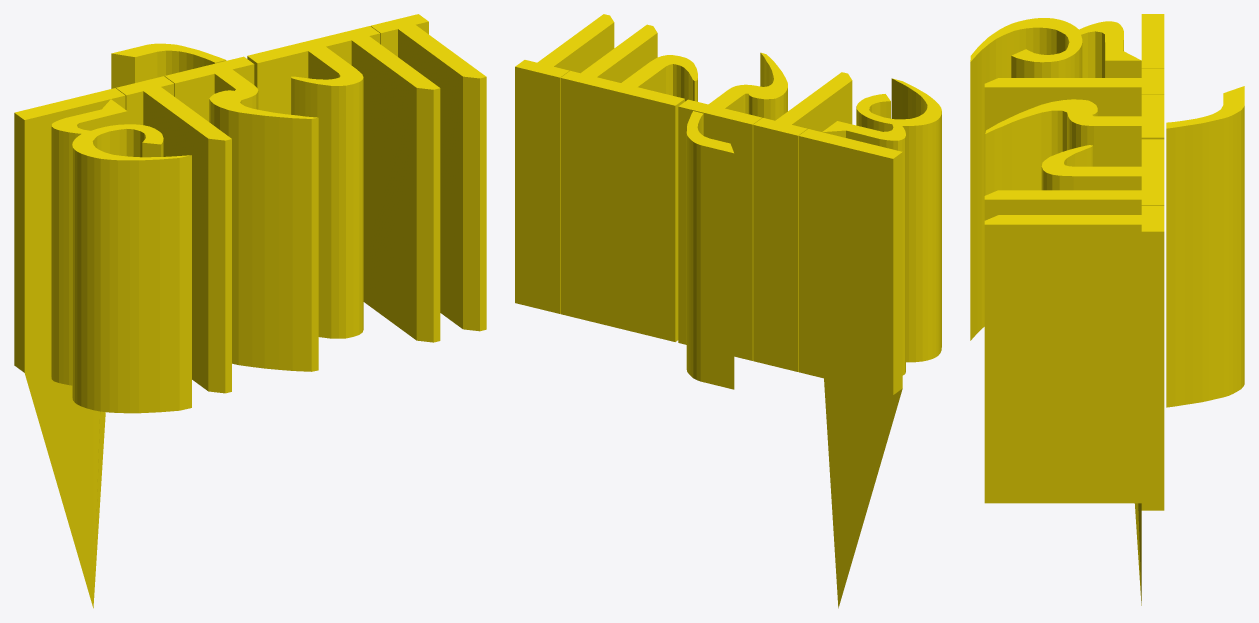
File: loose.fbx
3 views of the same model, side by side, from view 1: azimuth 30°, elevation 25°; view 2: azimuth 150°, elevation 25°; view 3: azimuth 270°, elevation 25° (orthographic). The views are drawn at different scales.
Visible parts, largest first — view 1: Text; view 2: Text; view 3: Text.
Boxes of the visible parts, x1=… form: Text: x1=14, y1=14, x2=486, y2=608; Text: x1=515, y1=14, x2=941, y2=608; Text: x1=970, y1=14, x2=1244, y2=605.
Size of the model in its own units: 119 by 142 by 63.28.
